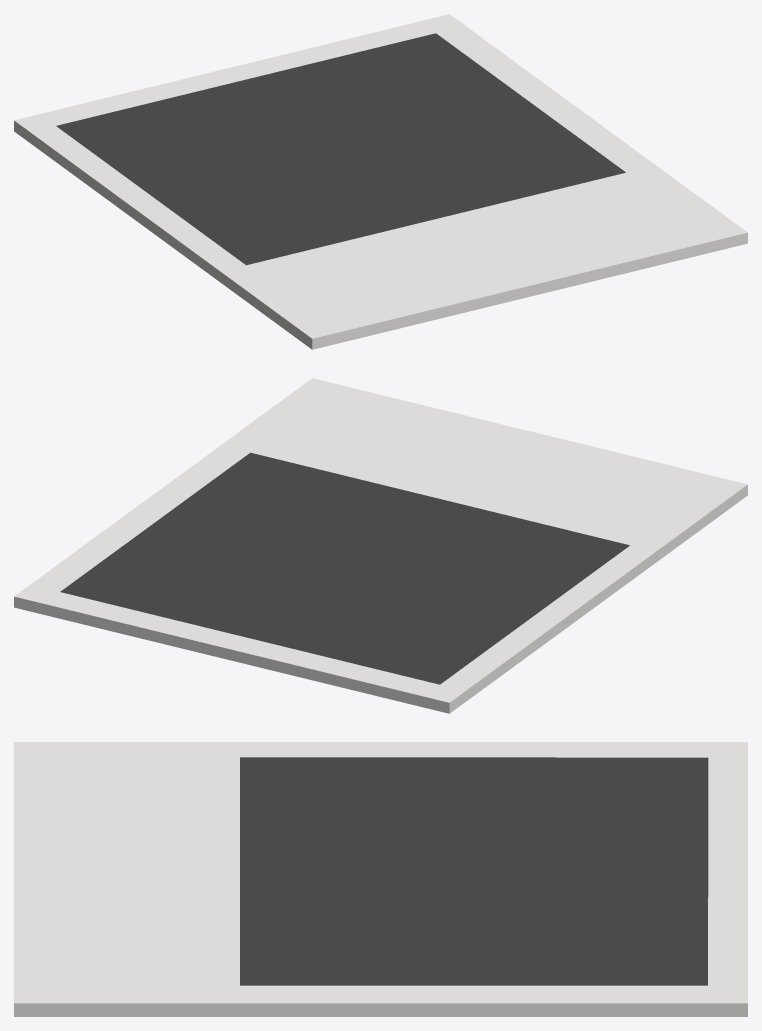
The model's file is Photo_4.glb.
The picture shows the model from 3 angles, top to bottom: view 1: azimuth 30°, elevation 25°; view 2: azimuth 150°, elevation 25°; view 3: azimuth 270°, elevation 25°; orthographic projection. The views are drawn at different scales.
Parts seen in each view (by area): view 1: Photo_4; view 2: Photo_4; view 3: Photo_4.
Boxes of the visible parts, x1,y1,x2,y2 form: Photo_4: [14, 14, 747, 349]; Photo_4: [14, 378, 747, 713]; Photo_4: [14, 742, 747, 1016].
Bounding box in the file's own units: 0.1388 × 0.00335 × 0.1647.
1 material, 1 textured.
